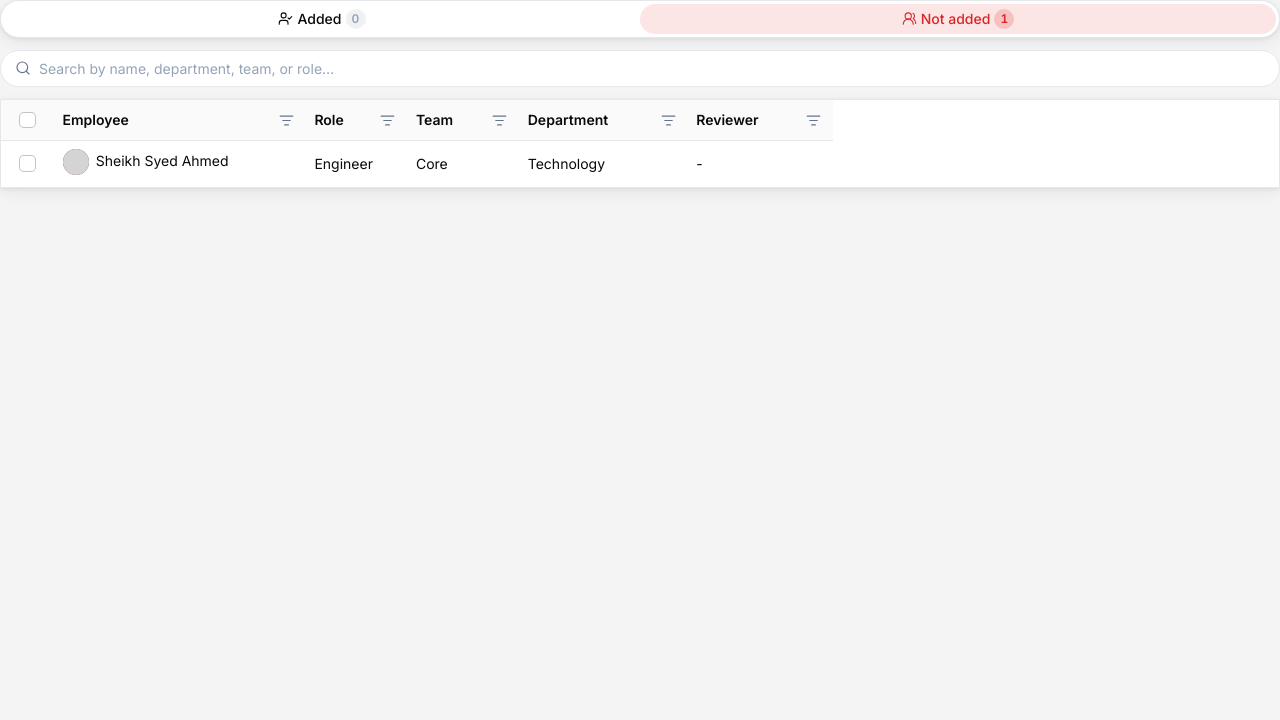
Scenario: GroupMembersEditor › keeps the confirmation open and shows an error when adding fails
Click the checkbox named "Select Sheikh Syed Ahmed" at (28, 164), box [19,155,36,172]
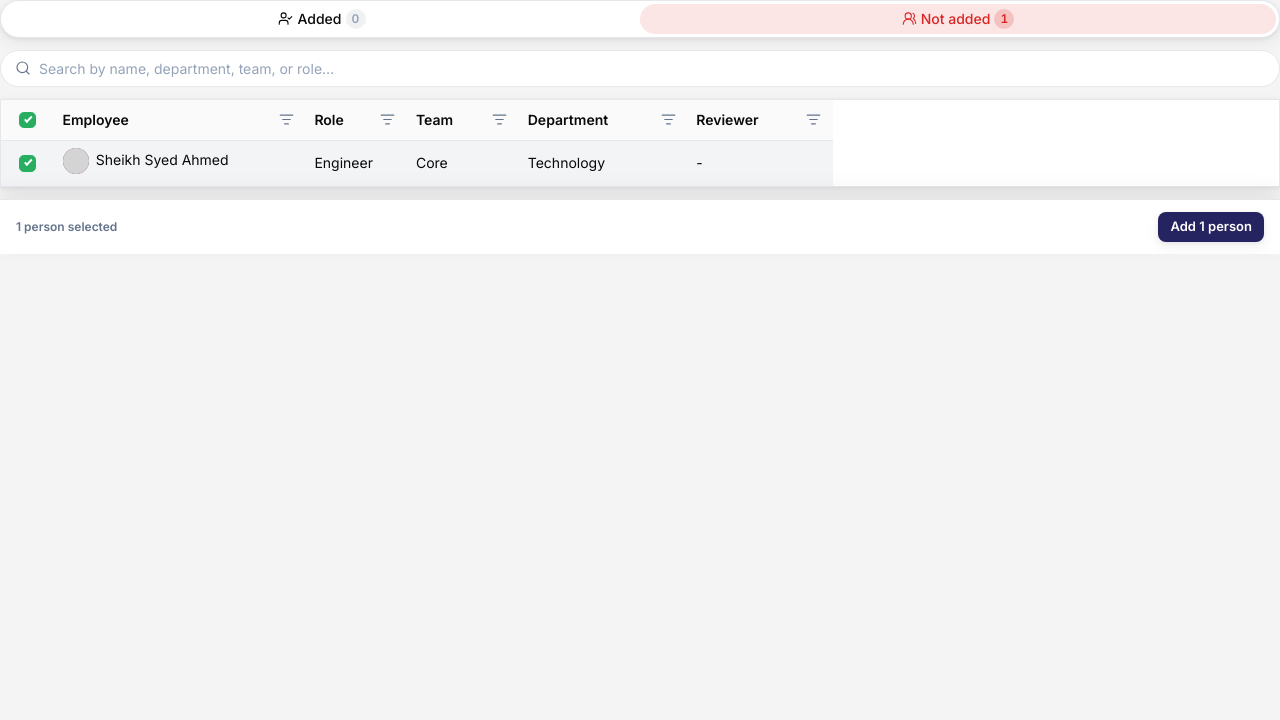
Click the button "Add 1 person" at (1211, 227), box [1158,212,1264,242]
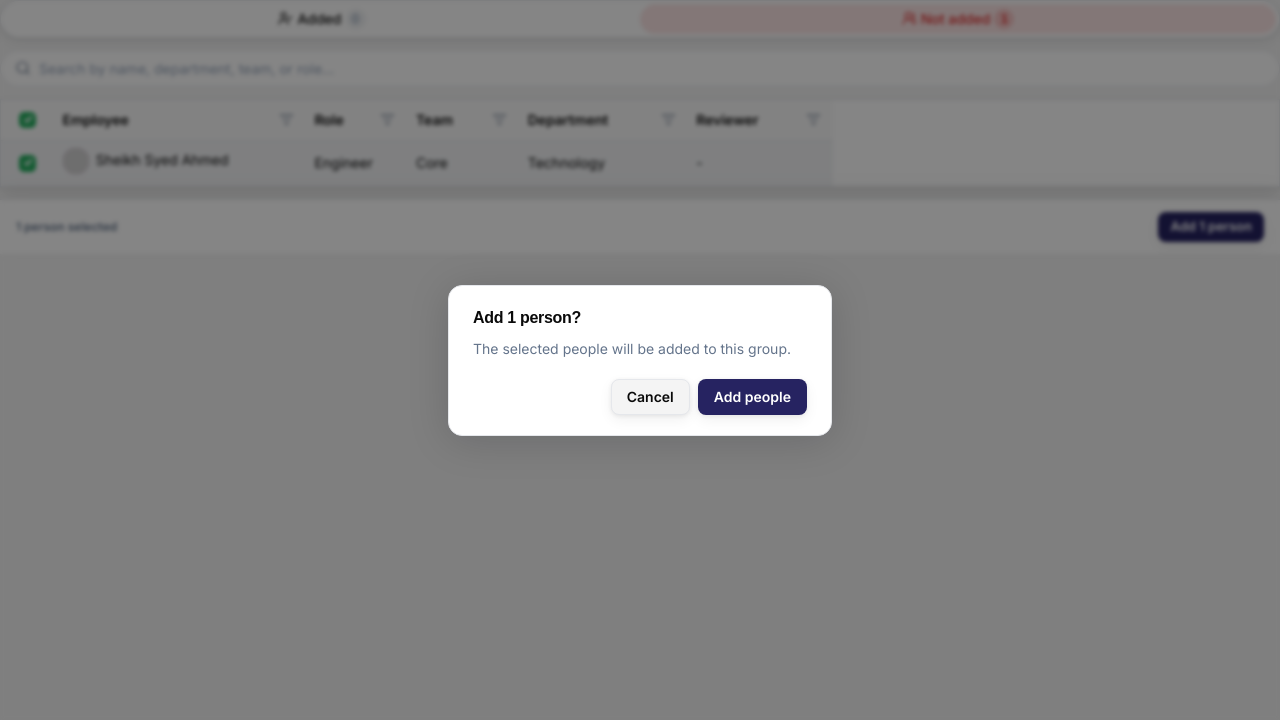
Click the button "Add people" at (752, 396), box [698,378,807,414]
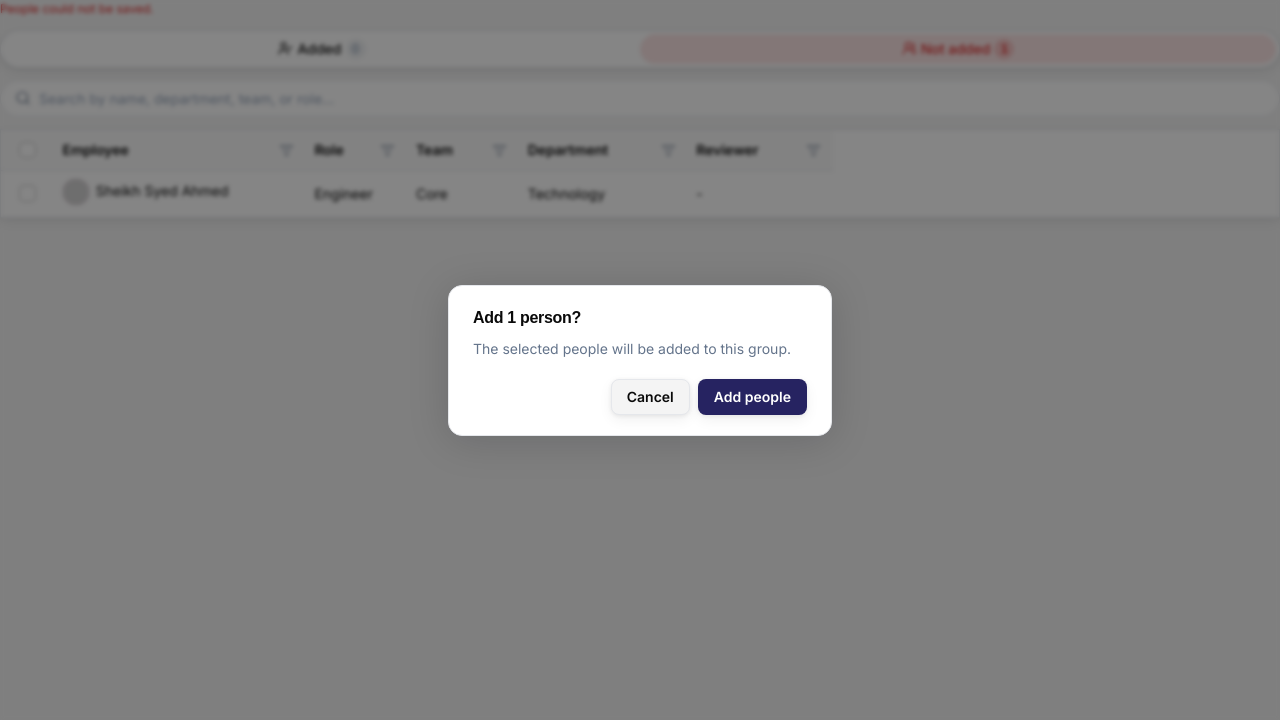
Expected: the button "Added 0" is shown, [4,34,640,64]
Expected: the dialog "Add 1 person?" is shown, [448,284,832,436]
Expected: the message reads "People could not be saved.", [0,1,154,16]
